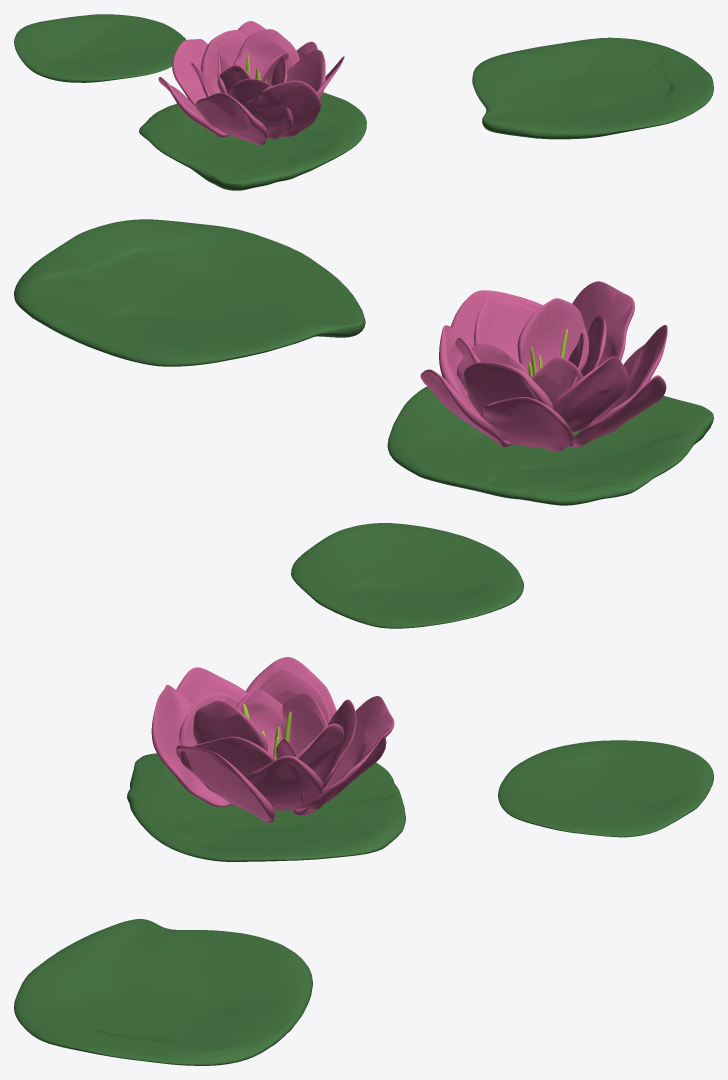
The model's file is mq_nenufar_2.glb.
3 renders of one model, top to bottom at view 1: azimuth 30°, elevation 25°; view 2: azimuth 150°, elevation 25°; view 3: azimuth 270°, elevation 25°, orthographic. The views are drawn at different scales.
Parts seen in each view (by area): view 1: Box025, Box010, Box024, Box011, Box012, Box002, Box014, Box003, Box005, Box001, Box013, Box009 (+2 smaller); view 2: Box025, Box010, Box024, Box014, Box006, Box004, Box011, Box003, Box001, Box013, Box012, Box015 (+5 smaller); view 3: Box025, Box010, Box024, Box011, Box017, Box016, Box014, Box006, Box008, Box001, Box009, Box004 (+6 smaller).
Boxes of the visible parts, x1,y1,x2,y2 form: Box025: (472, 37, 713, 139); Box010: (139, 92, 366, 190); Box024: (14, 14, 186, 82); Box011: (244, 80, 321, 137); Box012: (195, 92, 267, 145); Box002: (233, 29, 299, 78); Box014: (172, 39, 207, 105); Box003: (201, 30, 248, 93); Box005: (229, 78, 293, 139); Box001: (286, 50, 325, 98); Box013: (158, 77, 228, 137); Box009: (217, 65, 253, 95); Box025: (14, 219, 365, 366); Box010: (387, 386, 713, 505); Box024: (291, 523, 523, 628); Box014: (480, 397, 574, 451); Box006: (517, 298, 588, 373); Box004: (552, 356, 628, 432); Box011: (572, 281, 634, 364); Box003: (463, 362, 553, 414); Box001: (474, 297, 536, 361); Box013: (568, 375, 666, 447); Box012: (588, 325, 667, 425); Box015: (420, 369, 512, 447); Box025: (14, 919, 312, 1065); Box010: (127, 753, 405, 861); Box024: (498, 740, 713, 837); Box011: (151, 685, 230, 806); Box017: (176, 745, 275, 822); Box016: (246, 755, 323, 810); Box014: (322, 696, 394, 792); Box006: (193, 700, 267, 751); Box008: (281, 693, 327, 754); Box001: (180, 736, 275, 777); Box009: (235, 689, 283, 755); Box004: (259, 669, 330, 724).
Size of the model in its own units: 57.91 by 10.48 by 52.46.
Materials: 25 (25 with a texture image).
